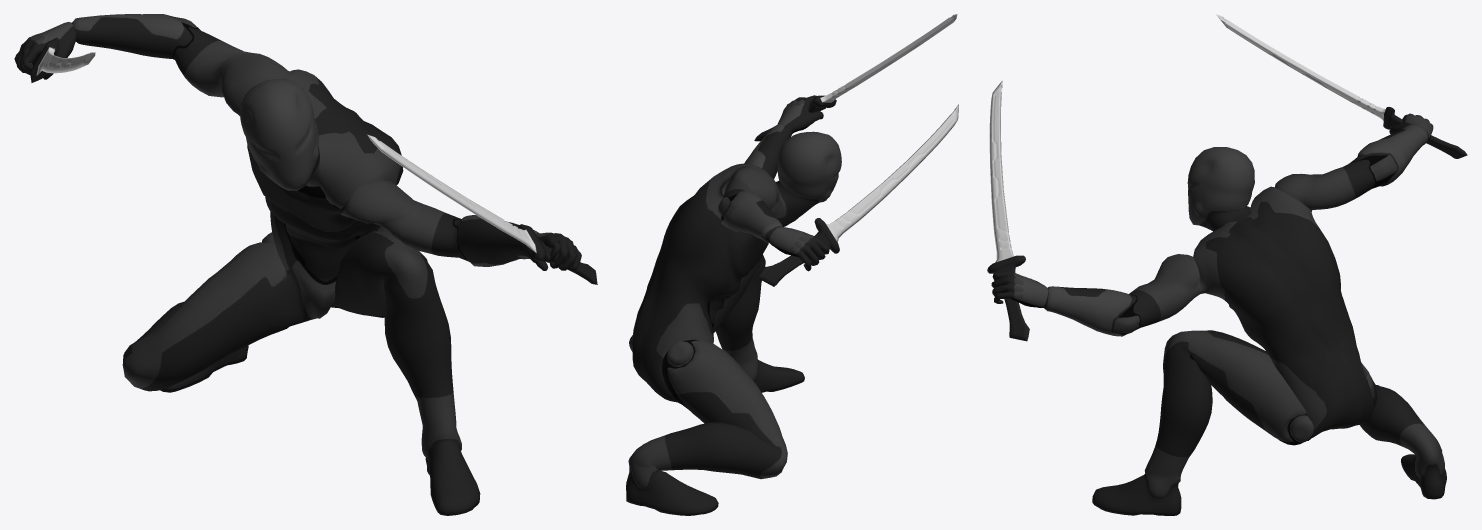
The picture shows the model from 3 angles, left to right: view 1: azimuth 30°, elevation 25°; view 2: azimuth 150°, elevation 25°; view 3: azimuth 270°, elevation 25°; orthographic projection. The views are drawn at different scales.
Parts seen in each view (by area): view 1: Cyborg_Ninja_Killer, Sword_l, Sword_l001; view 2: Cyborg_Ninja_Killer, Sword_l001, Sword_l; view 3: Cyborg_Ninja_Killer, Sword_l, Sword_l001.
Part boxes in pixels (box(x1,y1,x2,y2)): Cyborg_Ninja_Killer: box(14, 14, 581, 515); Sword_l: box(367, 134, 597, 284); Sword_l001: box(30, 37, 95, 82); Cyborg_Ninja_Killer: box(626, 95, 841, 515); Sword_l001: box(757, 104, 958, 286); Sword_l: box(754, 14, 957, 141); Cyborg_Ninja_Killer: box(991, 113, 1446, 515); Sword_l: box(987, 80, 1029, 341); Sword_l001: box(1216, 14, 1467, 158).
Bounding box in the file's own units: 108 × 127 × 147.
Materials: 2 (2 with a texture image).
